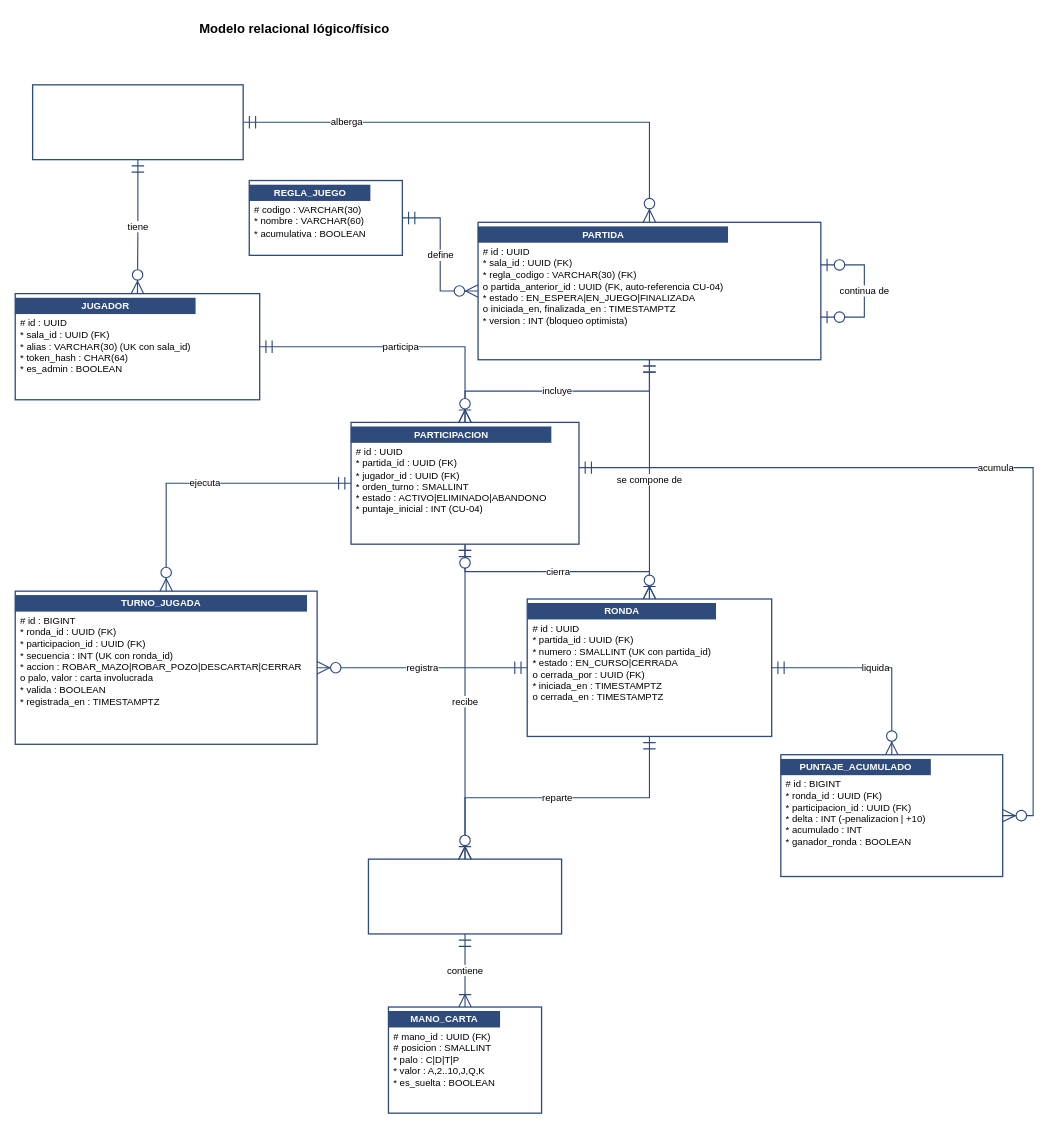
The diagram is 1062 pixels wide and 1132 high, and some of its shapes have lost their labels. Each missing label, with the box of its shape:
MANO_JUGADOR # id : UUID * ronda_id : UUID (FK) * participacion_id : UUID (FK): (367, 858, 562, 934)
SALA # id : UUID * codigo_acceso : VARCHAR(8) (UK) * creada_en : TIMESTAMPTZ: (32, 84, 243, 160)
